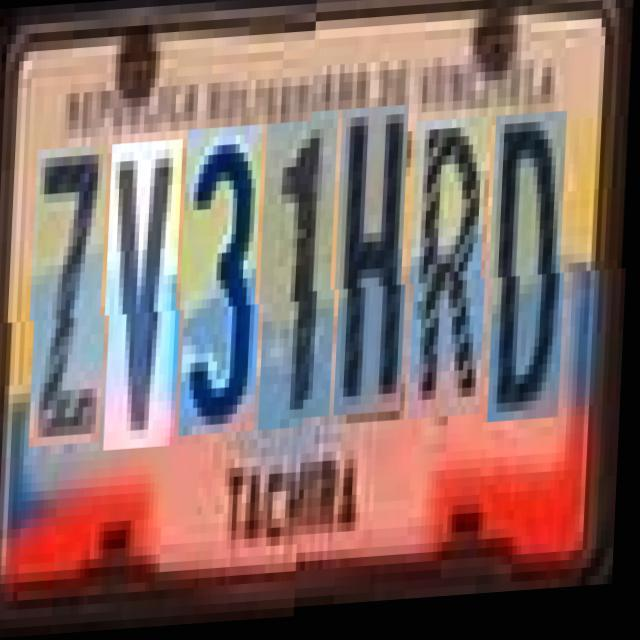1: (262, 123, 344, 434)
3: (182, 128, 268, 440)
D: (492, 128, 572, 440)
H: (337, 120, 414, 430)
R: (412, 133, 493, 435)
V: (108, 142, 189, 452)
Z: (33, 146, 114, 448)
